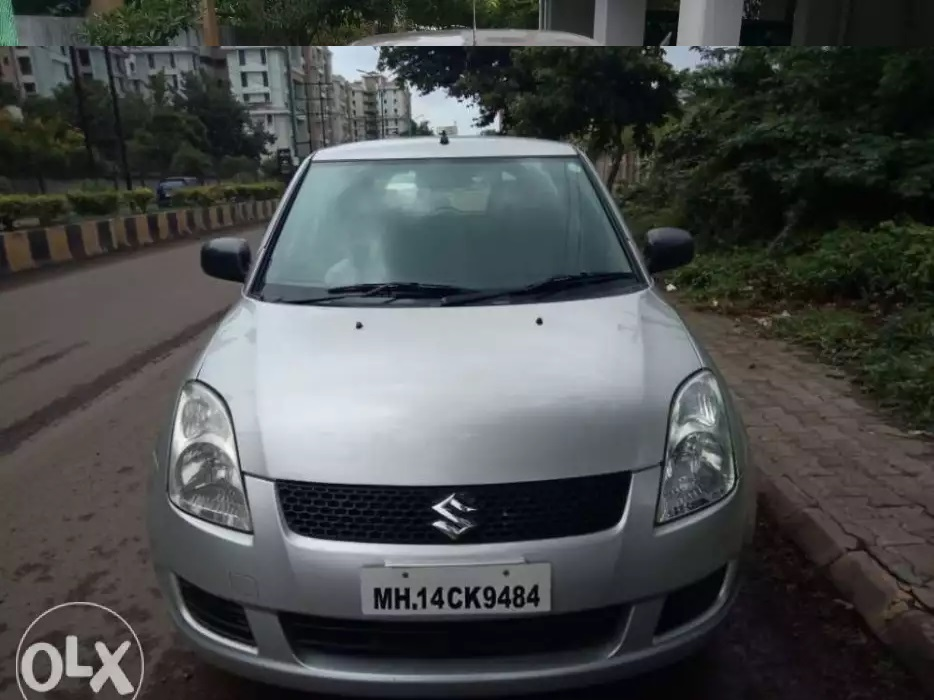licenseplate: (354, 566, 557, 615)
